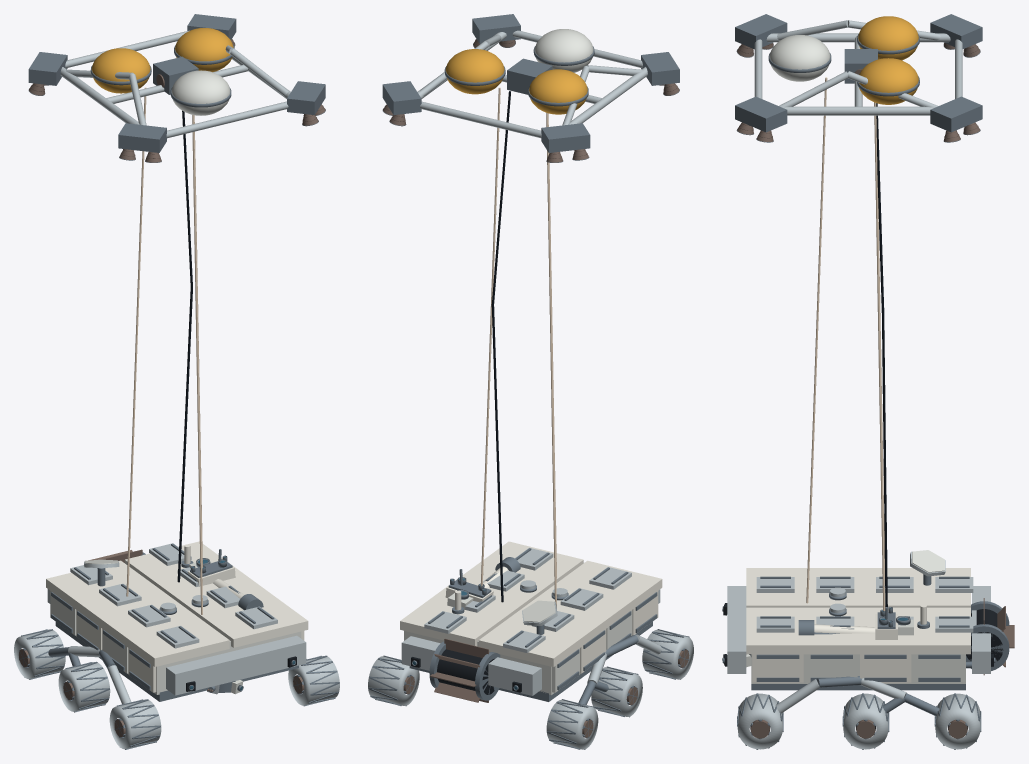
The model's file is curiosity_sky_crane.glb.
The picture shows the model from 3 angles, left to right: view 1: azimuth 30°, elevation 25°; view 2: azimuth 150°, elevation 25°; view 3: azimuth 270°, elevation 25°; orthographic projection. The views are drawn at different scales.
Visible parts, largest first — view 1: curiosity_body.deck.mesh_Warm_white_enamel, mars_descent_stage.aluminum_frame.mesh_Satin_aluminum, curiosity_body.front_equipment.mesh_Satin_aluminum, curiosity_body.deck.mesh_Satin_aluminum, curiosity_mobility.rocker_left.steer_front.wheel_front.rim.m (×2), curiosity_mobility.rocker_left.bogie.axle_middle.wheel_middl (×2), curiosity_mobility.rocker_right.steer_front.wheel_front.rim. (×2), curiosity_mobility.rocker_left.bogie.steer_rear.wheel_rear.r (×2), mars_descent_stage.propellant_tank_03.mesh_Pale_thermal_blan, curiosity_body.mesh_Pale_thermal_blanket, mars_descent_stage.propellant_tank_01.mesh_Gold_thermal_insu, mars_descent_stage.propellant_tank_02.mesh_Gold_thermal_insu (+13 smaller); view 2: curiosity_body.deck.mesh_Warm_white_enamel, mars_descent_stage.aluminum_frame.mesh_Satin_aluminum, curiosity_body.deck.mesh_Satin_aluminum, curiosity_body.rear_equipment.mesh_Satin_aluminum, curiosity_mobility.rocker_left.bogie.steer_rear.wheel_rear.r (×2), curiosity_mobility.rocker_right.bogie.steer_rear.wheel_rear. (×2), curiosity_mobility.rocker_left.steer_front.wheel_front.rim.m (×2), curiosity_mobility.rocker_left.bogie.axle_middle.wheel_middl (×2), mars_descent_stage.propellant_tank_02.mesh_Gold_thermal_insu, mars_descent_stage.propellant_tank_01.mesh_Gold_thermal_insu, mars_descent_stage.propellant_tank_03.mesh_Pale_thermal_blan, curiosity_body.mesh_Pale_thermal_blanket (+16 smaller); view 3: curiosity_body.deck.mesh_Warm_white_enamel, mars_descent_stage.aluminum_frame.mesh_Satin_aluminum, curiosity_body.deck.mesh_Satin_aluminum, curiosity_body.mesh_Pale_thermal_blanket, curiosity_body.mesh_Machined_steel, curiosity_body.mesh_Warm_white_enamel, mars_descent_stage.propellant_tank_03.mesh_Pale_thermal_blan, mars_descent_stage.propellant_tank_02.mesh_Gold_thermal_insu, mars_descent_stage.propellant_tank_01.mesh_Gold_thermal_insu, curiosity_body.front_equipment.mesh_Satin_aluminum, curiosity_mobility.rocker_right.bogie.steer_rear.wheel_rear., curiosity_mobility.rocker_right.bogie.axle_middle.wheel_midd (+17 smaller).
Part boxes in pixels (x1,y1,x2,y2): curiosity_body.deck.mesh_Warm_white_enamel: (46, 541, 308, 666); mars_descent_stage.aluminum_frame.mesh_Satin_aluminum: (60, 30, 290, 138); curiosity_body.front_equipment.mesh_Satin_aluminum: (166, 635, 306, 695); curiosity_body.deck.mesh_Satin_aluminum: (70, 543, 277, 648); curiosity_mobility.rocker_left.steer_front.wheel_front.rim.m (×2): (109, 699, 161, 749); curiosity_mobility.rocker_left.bogie.axle_middle.wheel_middl (×2): (58, 661, 110, 712); curiosity_mobility.rocker_right.steer_front.wheel_front.rim. (×2): (288, 655, 339, 706); curiosity_mobility.rocker_left.bogie.steer_rear.wheel_rear.r (×2): (14, 629, 65, 679); mars_descent_stage.propellant_tank_03.mesh_Pale_thermal_blan: (171, 70, 230, 115); curiosity_body.mesh_Pale_thermal_blanket: (50, 591, 301, 694); mars_descent_stage.propellant_tank_01.mesh_Gold_thermal_insu: (91, 48, 150, 93); mars_descent_stage.propellant_tank_02.mesh_Gold_thermal_insu: (175, 28, 233, 72); curiosity_body.deck.mesh_Warm_white_enamel: (400, 541, 662, 666); mars_descent_stage.aluminum_frame.mesh_Satin_aluminum: (417, 30, 647, 138); curiosity_body.deck.mesh_Satin_aluminum: (424, 547, 631, 652); curiosity_body.rear_equipment.mesh_Satin_aluminum: (401, 636, 541, 695); curiosity_mobility.rocker_left.bogie.steer_rear.wheel_rear.r (×2): (546, 699, 598, 749); curiosity_mobility.rocker_right.bogie.steer_rear.wheel_rear. (×2): (368, 655, 419, 706); curiosity_mobility.rocker_left.steer_front.wheel_front.rim.m (×2): (642, 629, 693, 679); curiosity_mobility.rocker_left.bogie.axle_middle.wheel_middl (×2): (591, 666, 642, 717); mars_descent_stage.propellant_tank_02.mesh_Gold_thermal_insu: (445, 49, 504, 94); mars_descent_stage.propellant_tank_01.mesh_Gold_thermal_insu: (529, 69, 587, 114); mars_descent_stage.propellant_tank_03.mesh_Pale_thermal_blan: (534, 29, 593, 72); curiosity_body.mesh_Pale_thermal_blanket: (404, 610, 632, 695); curiosity_body.deck.mesh_Warm_white_enamel: (746, 568, 970, 654); mars_descent_stage.aluminum_frame.mesh_Satin_aluminum: (754, 20, 962, 115); curiosity_body.deck.mesh_Satin_aluminum: (756, 577, 973, 632); curiosity_body.mesh_Pale_thermal_blanket: (751, 654, 965, 683); curiosity_body.mesh_Machined_steel: (751, 654, 965, 690); curiosity_body.mesh_Warm_white_enamel: (752, 654, 911, 682); mars_descent_stage.propellant_tank_03.mesh_Pale_thermal_blan: (769, 35, 830, 81); mars_descent_stage.propellant_tank_02.mesh_Gold_thermal_insu: (859, 58, 918, 104); mars_descent_stage.propellant_tank_01.mesh_Gold_thermal_insu: (858, 16, 918, 60); curiosity_body.front_equipment.mesh_Satin_aluminum: (727, 586, 746, 673); curiosity_mobility.rocker_right.bogie.steer_rear.wheel_rear.: (935, 693, 980, 749); curiosity_mobility.rocker_right.bogie.axle_middle.wheel_midd: (843, 693, 888, 749).
Bounding box in the file's own units: 2.8 × 8.03 × 3.24.
